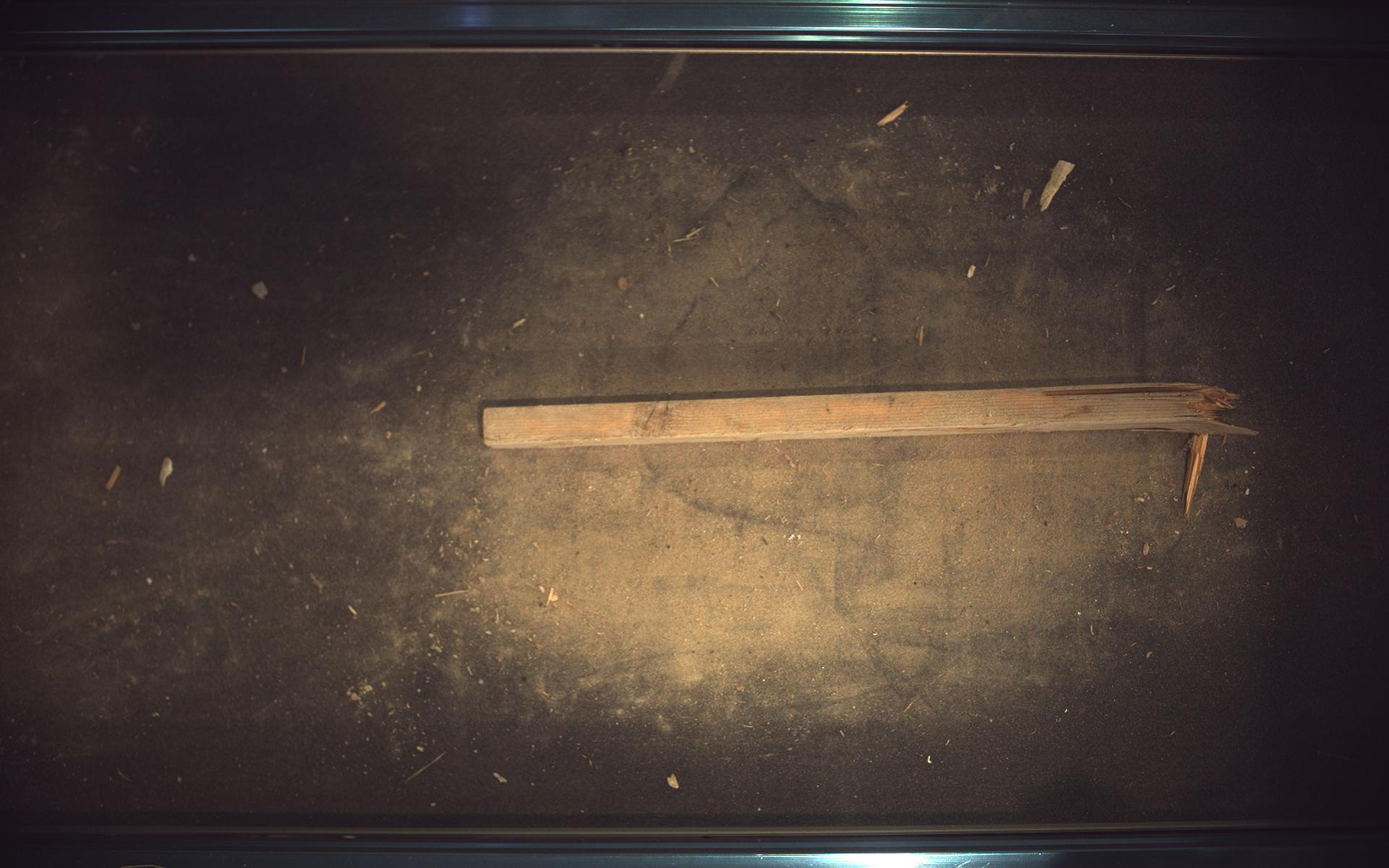wood: (483, 383, 1259, 518)
